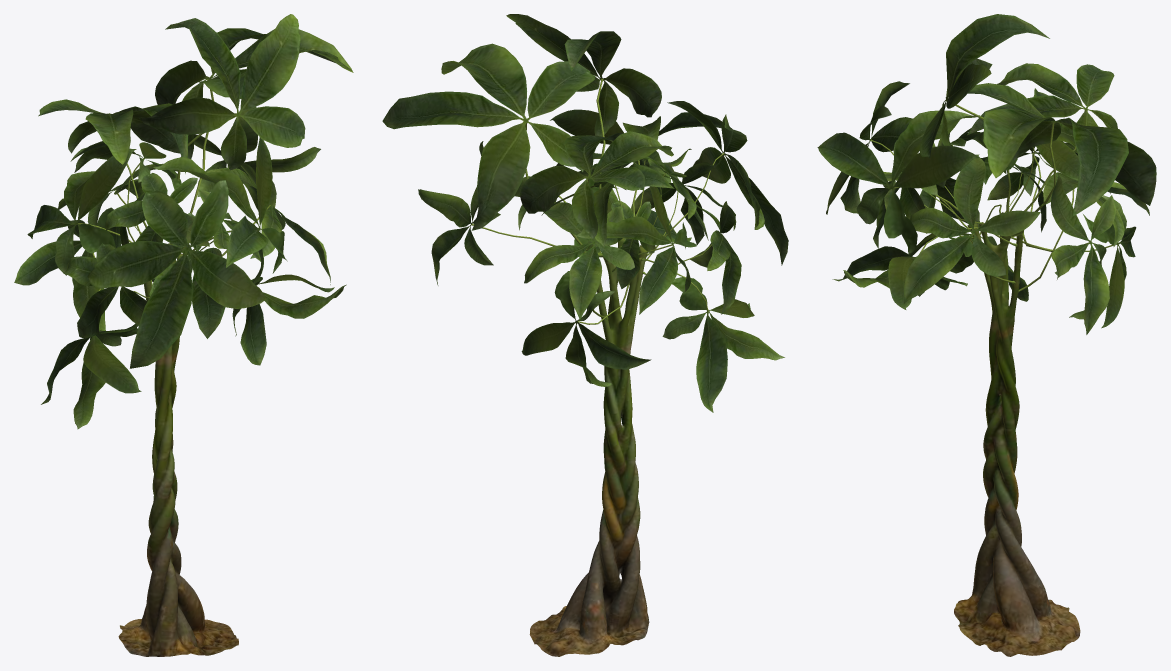
Rendered from plant__0.glb.
3 renders of one model, left to right at view 1: azimuth 30°, elevation 25°; view 2: azimuth 150°, elevation 25°; view 3: azimuth 270°, elevation 25°, orthographic. The views are drawn at different scales.
Visible parts, largest first — view 1: pachira_aquatica_01_leaves_a.001, pachira_aquatica_01_bark_a.001; view 2: pachira_aquatica_01_leaves_a.001, pachira_aquatica_01_bark_a.001; view 3: pachira_aquatica_01_leaves_a.001, pachira_aquatica_01_bark_a.001.
Boxes of the visible parts, x1,y1,x2,y2 form: pachira_aquatica_01_leaves_a.001: (14, 14, 353, 429); pachira_aquatica_01_bark_a.001: (118, 243, 238, 656); pachira_aquatica_01_leaves_a.001: (382, 14, 788, 412); pachira_aquatica_01_bark_a.001: (529, 238, 649, 656); pachira_aquatica_01_leaves_a.001: (817, 14, 1156, 334); pachira_aquatica_01_bark_a.001: (954, 212, 1080, 656).
Bounding box in the file's own units: 0.5716 × 1 × 0.4967.
Materials: 2 (2 with a texture image).
